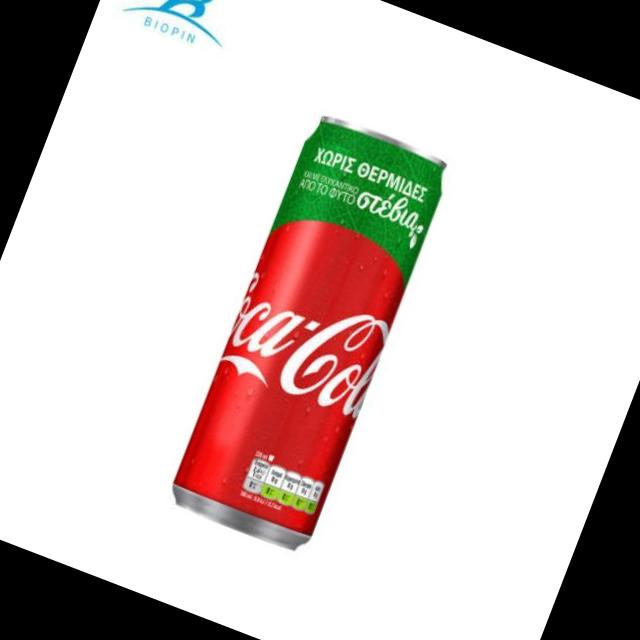Kaleng: (162, 106, 456, 556)
